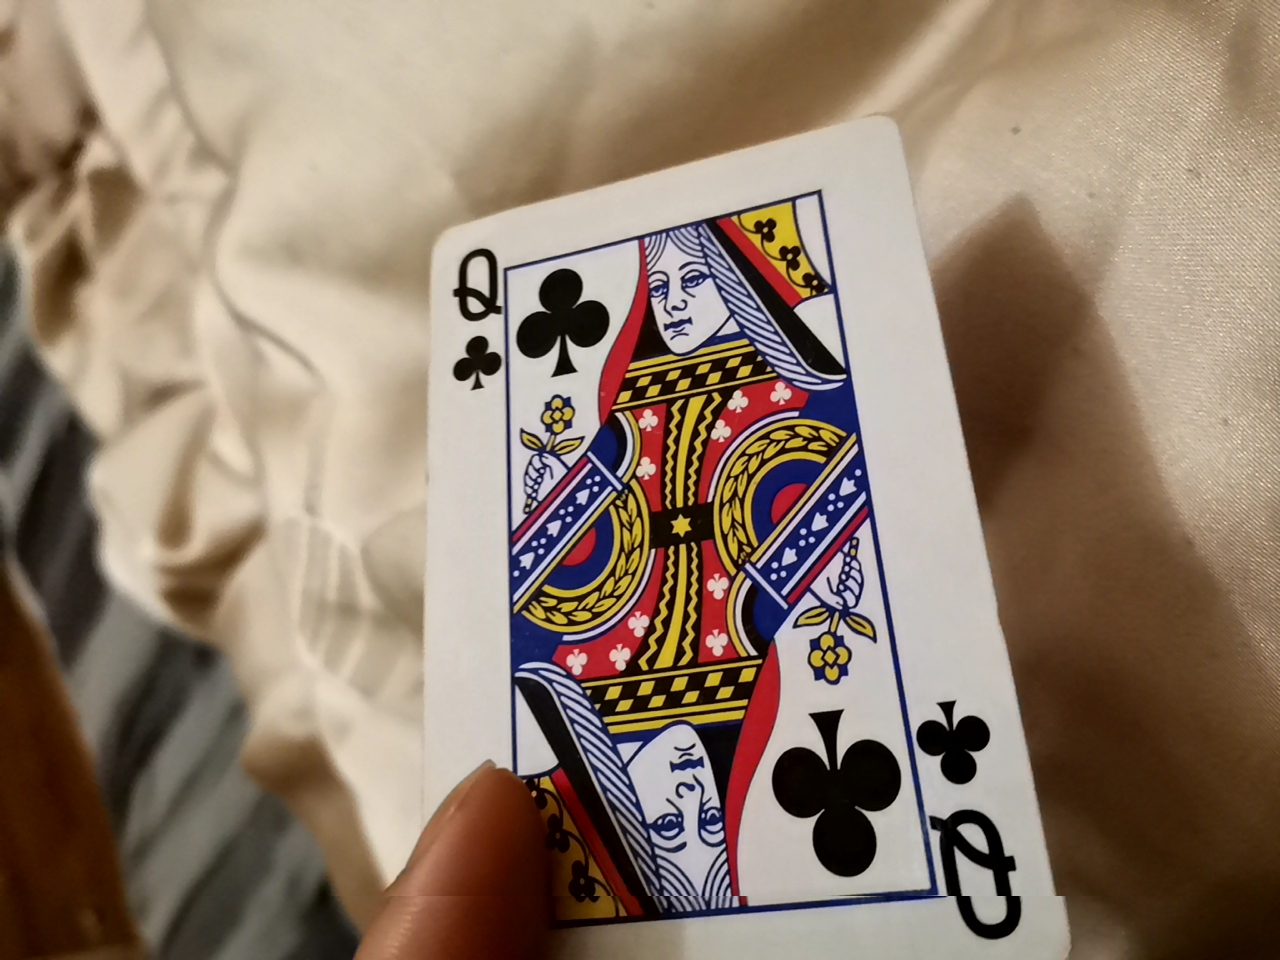mh q: (378, 81, 1053, 951)
